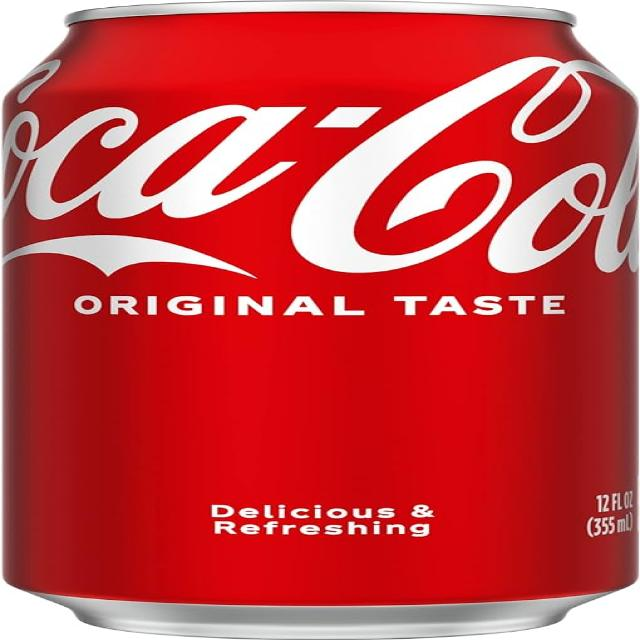cocacola: (2, 2, 636, 640)
